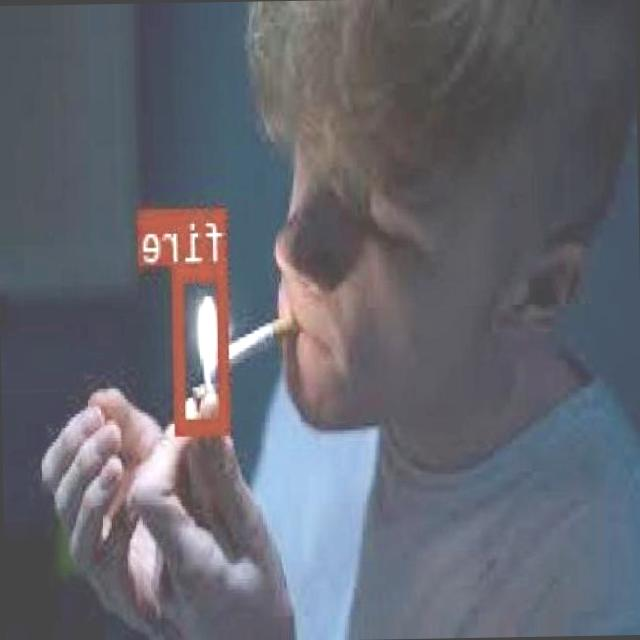fire: (174, 261, 232, 431)
